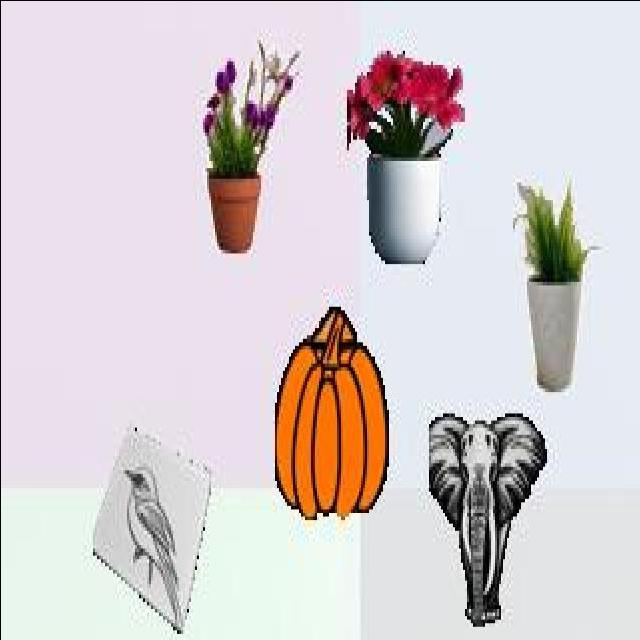Other Objects: (345, 48, 465, 264), (92, 422, 210, 631), (202, 36, 302, 252), (511, 174, 602, 393)
